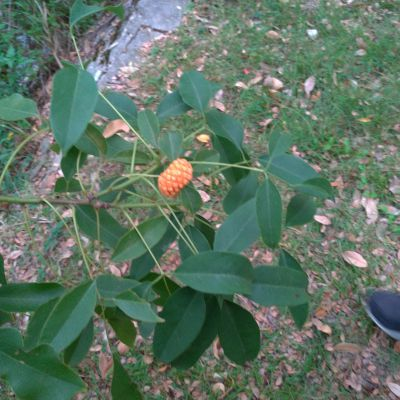eggs: (155, 157, 197, 198)
